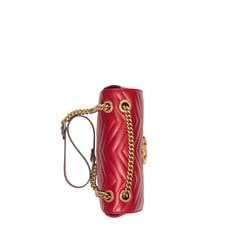Gucci: (86, 79, 153, 217), (96, 117, 130, 185)
